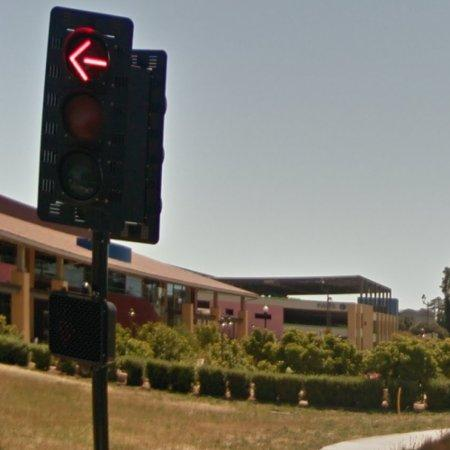traffic lights: (38, 7, 166, 243)
